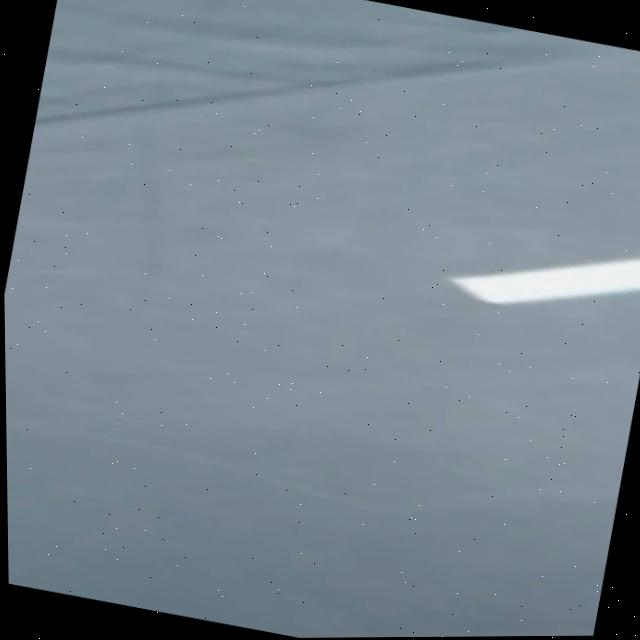center: (450, 256, 640, 304)
